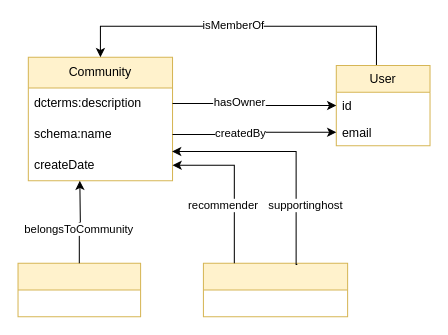
This 448x335 diagram has some shape labels left out. The centre of each missing label's shape, as x and y in pixels:
"EducationalResource" belongs at point (275, 289).
"LearningPath" belongs at point (79, 289).
